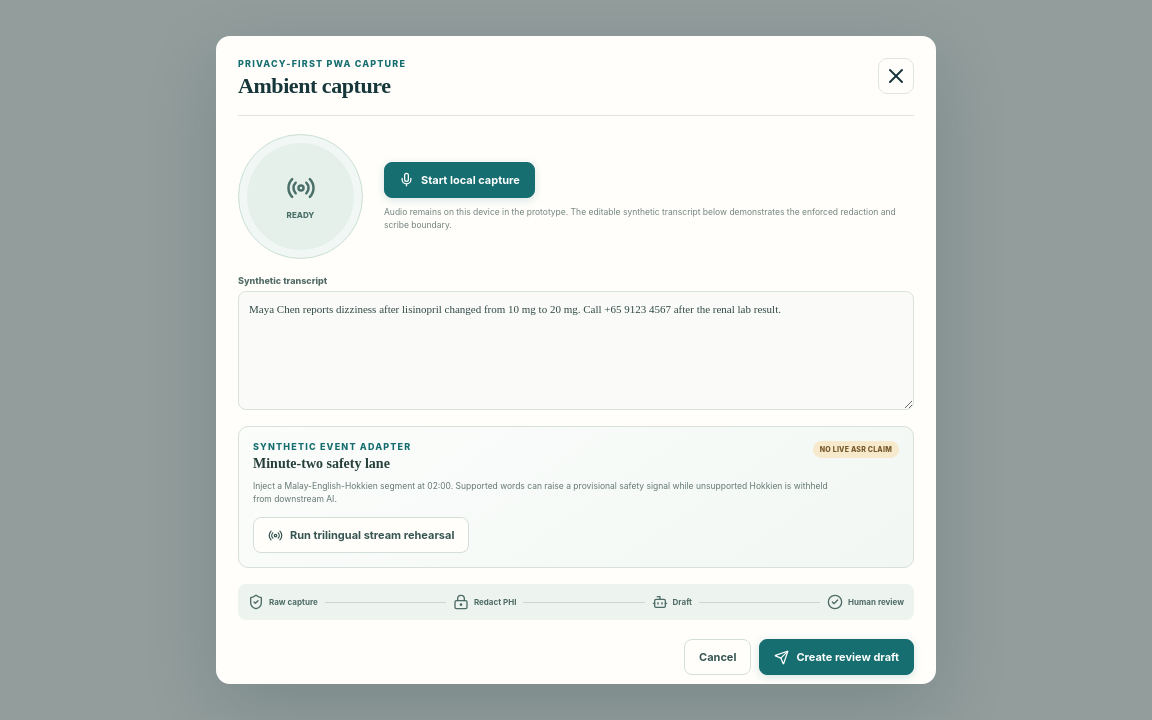
Test: scribe streaming rehearsal exposes abstention, provisional review, and finalization
Expected: the text "No live ASR claim" is shown, [813,441,899,458]
Click the button "Run trilingual stream rehearsal" at (361, 535), box [253,517,469,553]
(page scrolled)
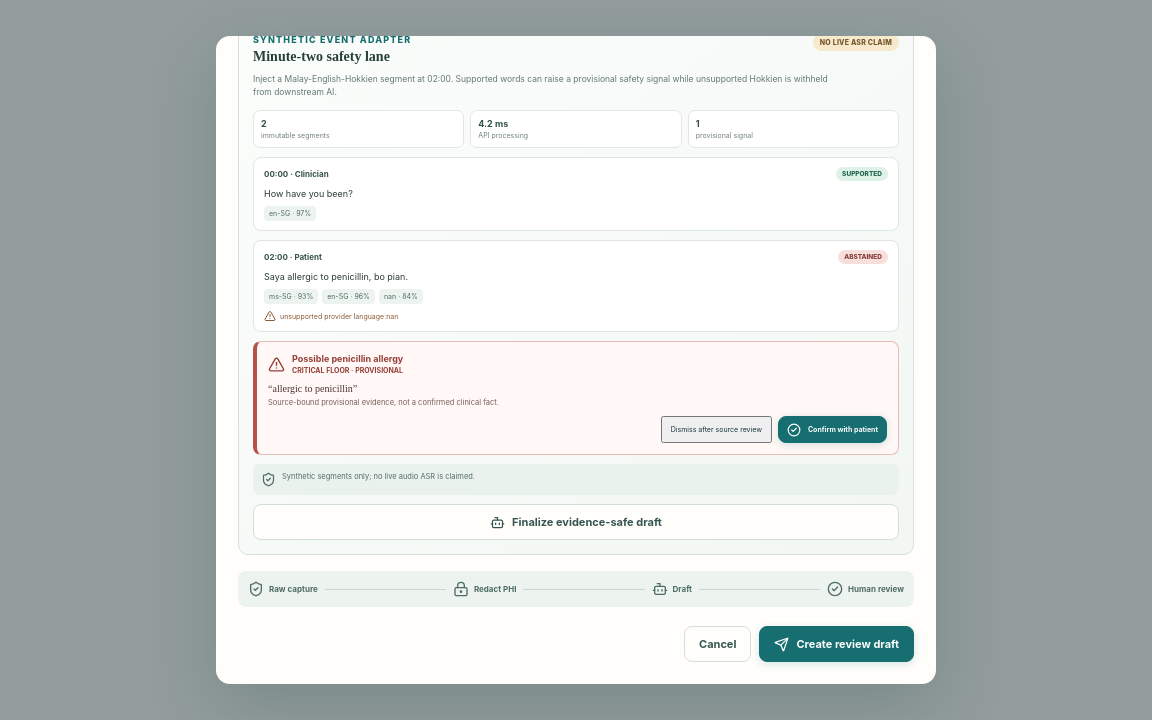
Now the text "Possible penicillin allergy" is shown, box [292,353,403,364]
Now the text "abstained" is shown, box [838,250,888,264]
Now the text "nan · 84%" is shown, box [379,289,423,304]
Click the button "Confirm with patient" at (832, 430), box [778,416,887,443]
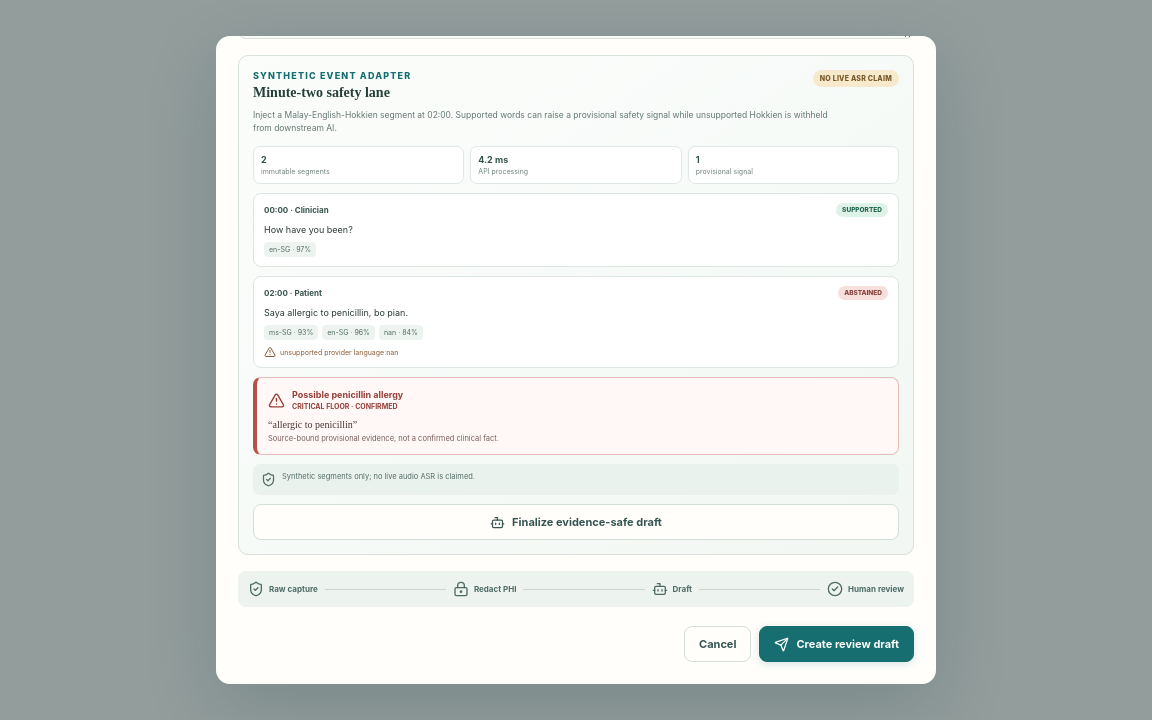
Now the text "Critical floor · confirmed" is shown, box [292,402,403,411]
Click the button "Finalize evidence-safe draft" at (576, 522), box [253,504,899,540]
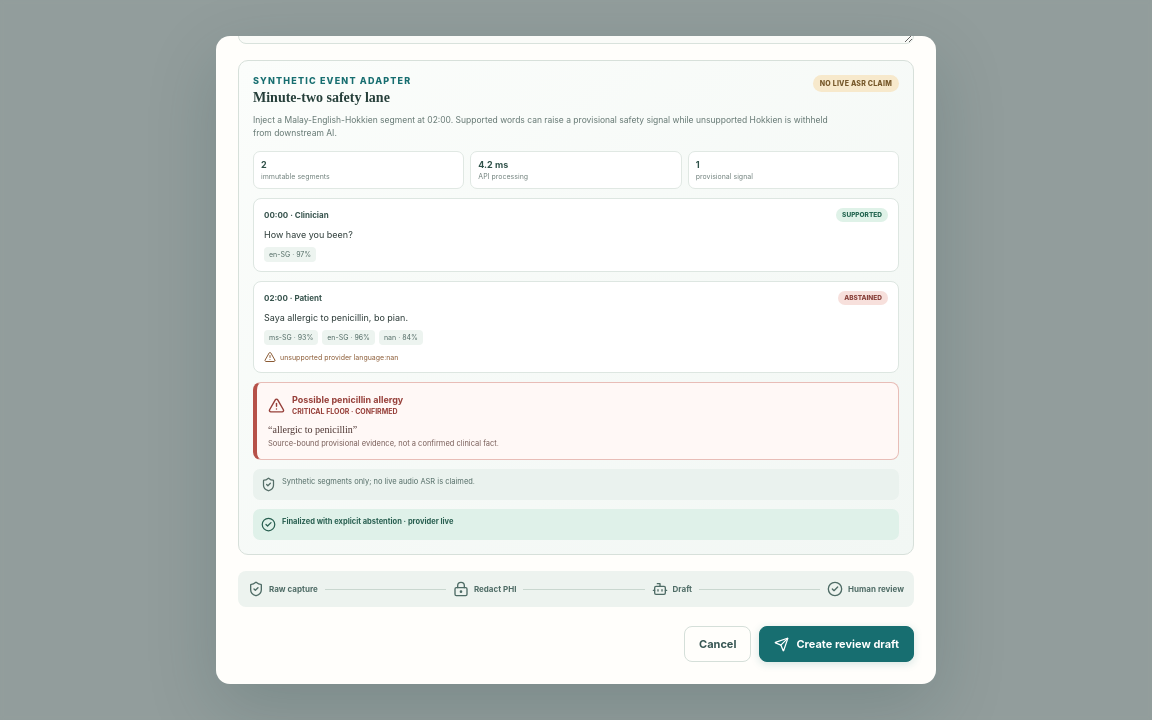
Now the text "Finalized with explicit abstention · provider live" is shown, box [282,517,453,528]
